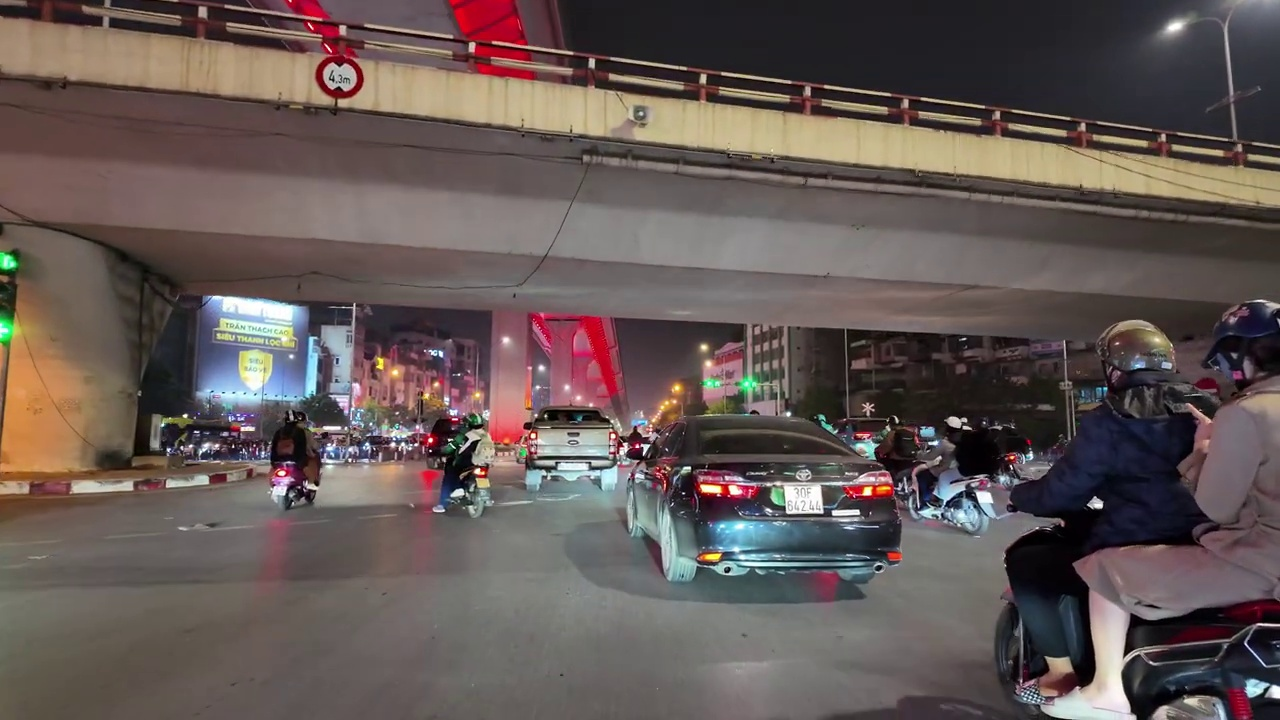acesa: (1160, 15, 1188, 39)
